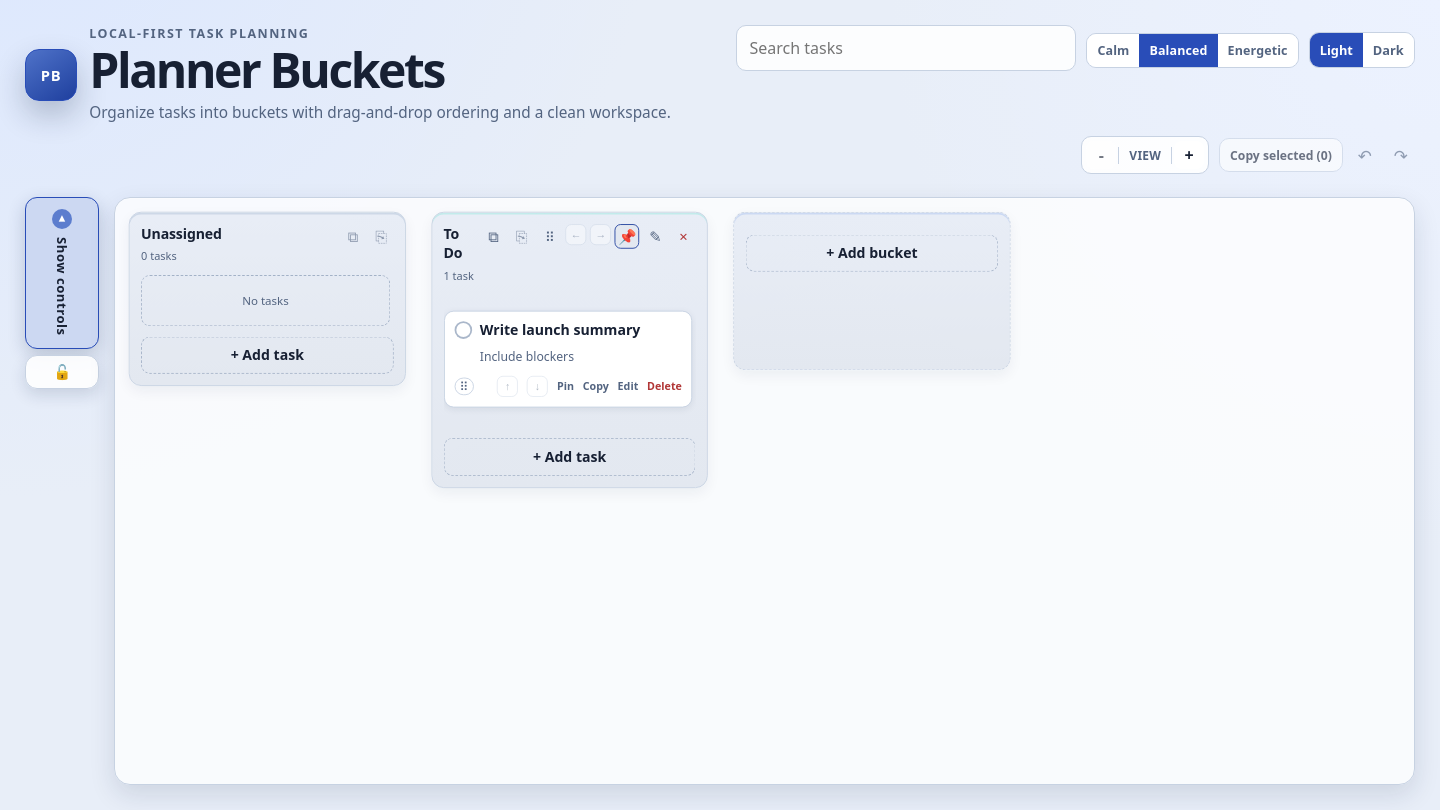
Test case: App integration › supports undo and redo keyboard shortcuts for planner actions
Step 1. Click the button with aria-label "Open planner controls" → [62, 273], box 25,197 -> 99,349
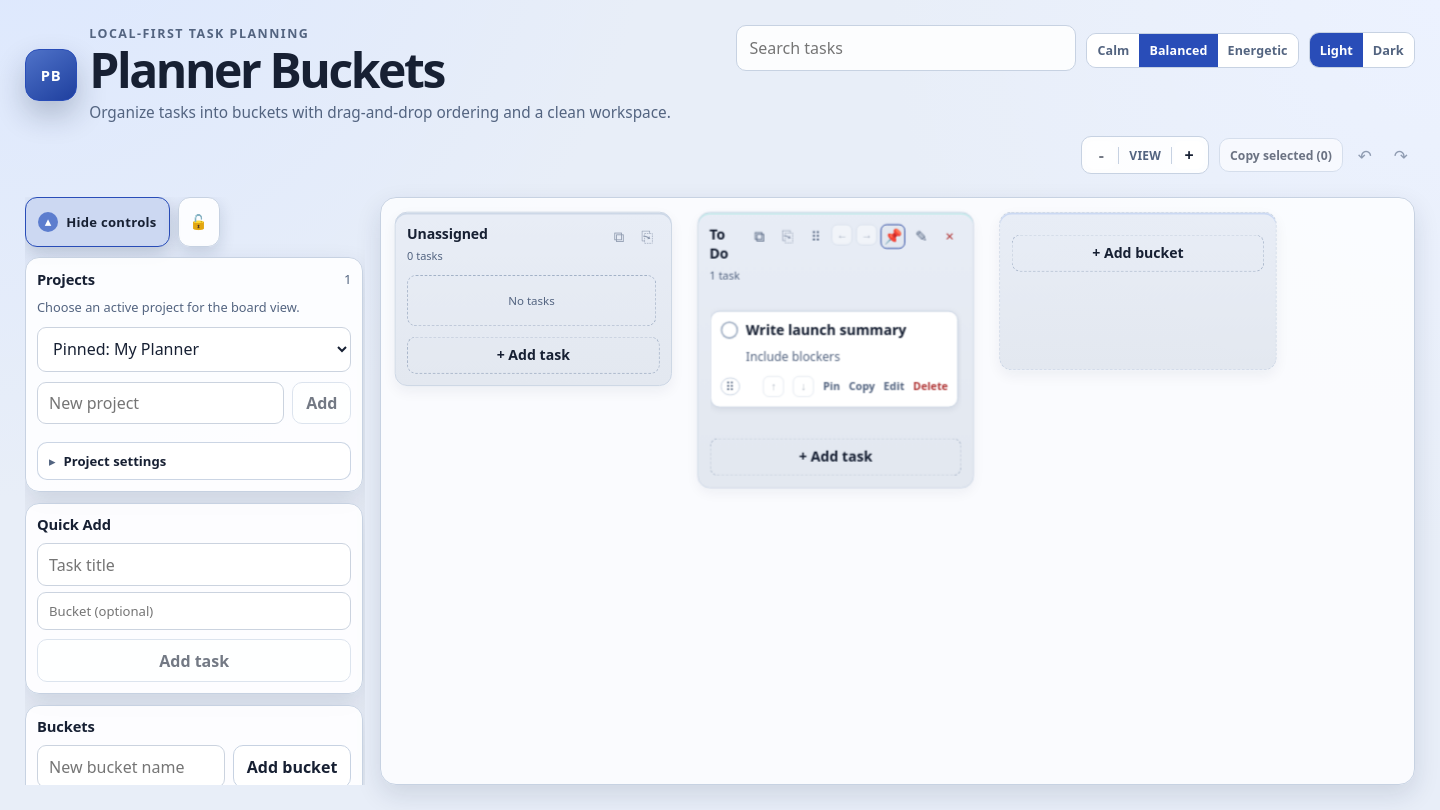
Step 2. Type "Undo target task" into the field named "Quick add task title" → [194, 565], box 37,544 -> 351,586
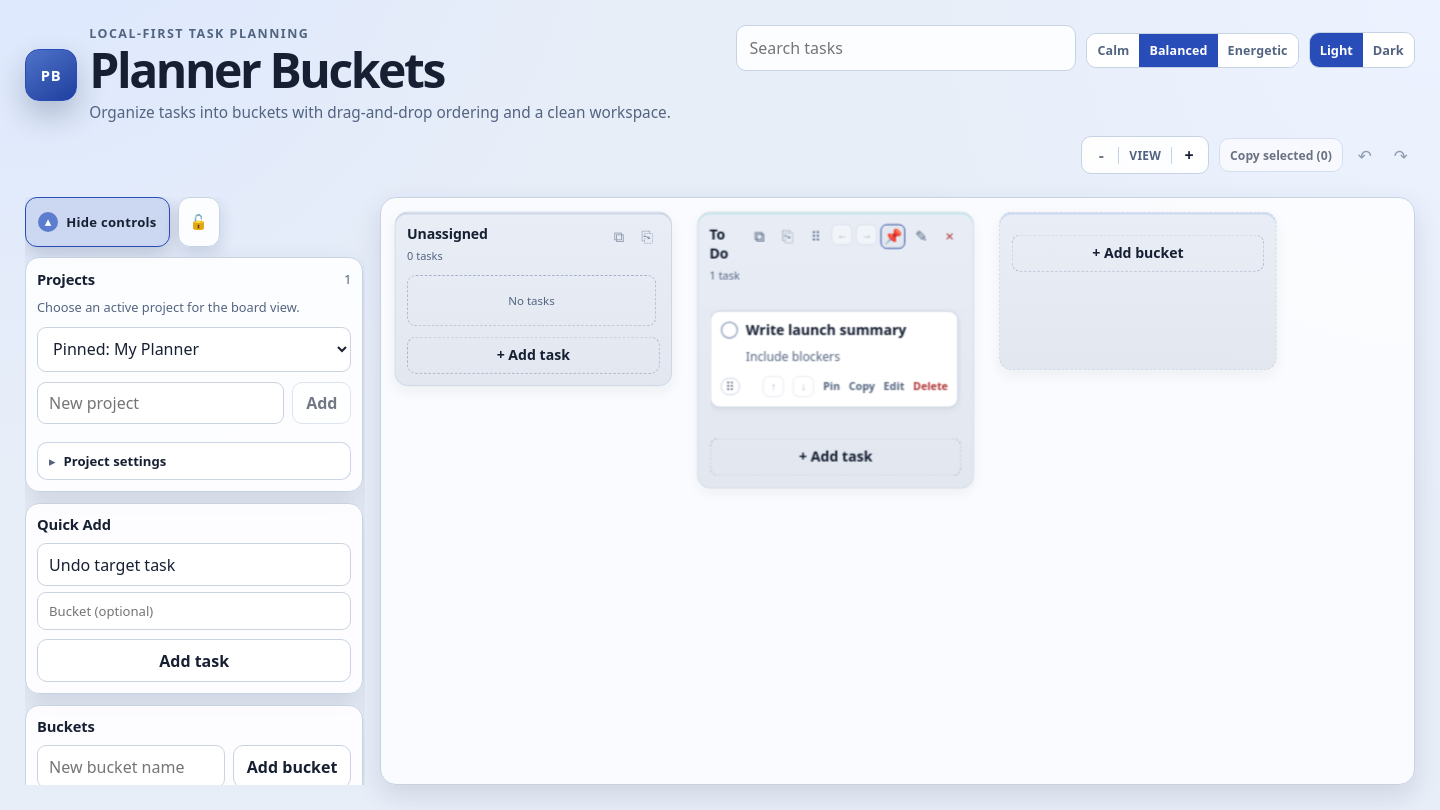
Step 3. Press Enter in the field named "Quick add task title", box 37,544 -> 351,586
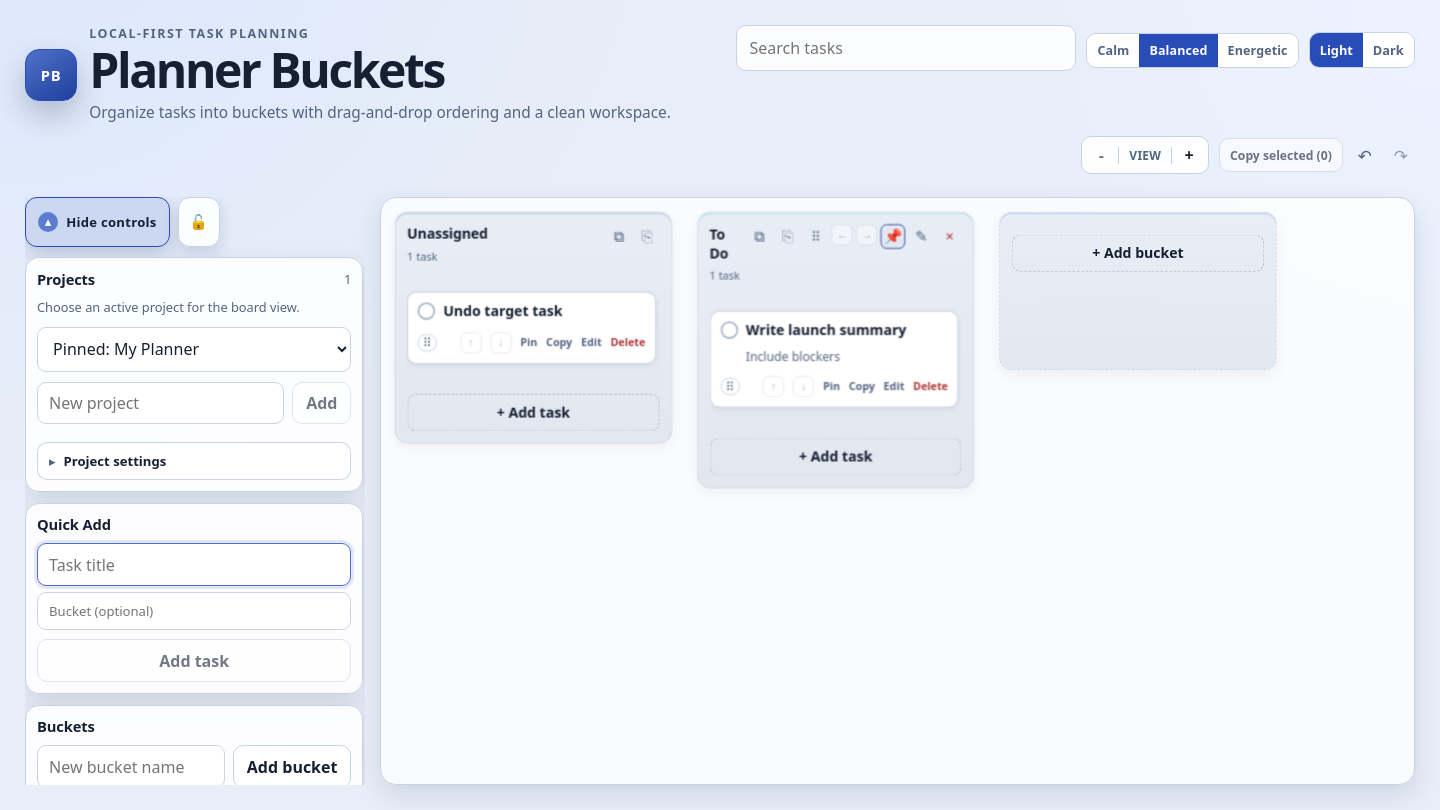
Check: the button "Undo target task" is shown, box 443,303 -> 646,322
Step 4. Press z
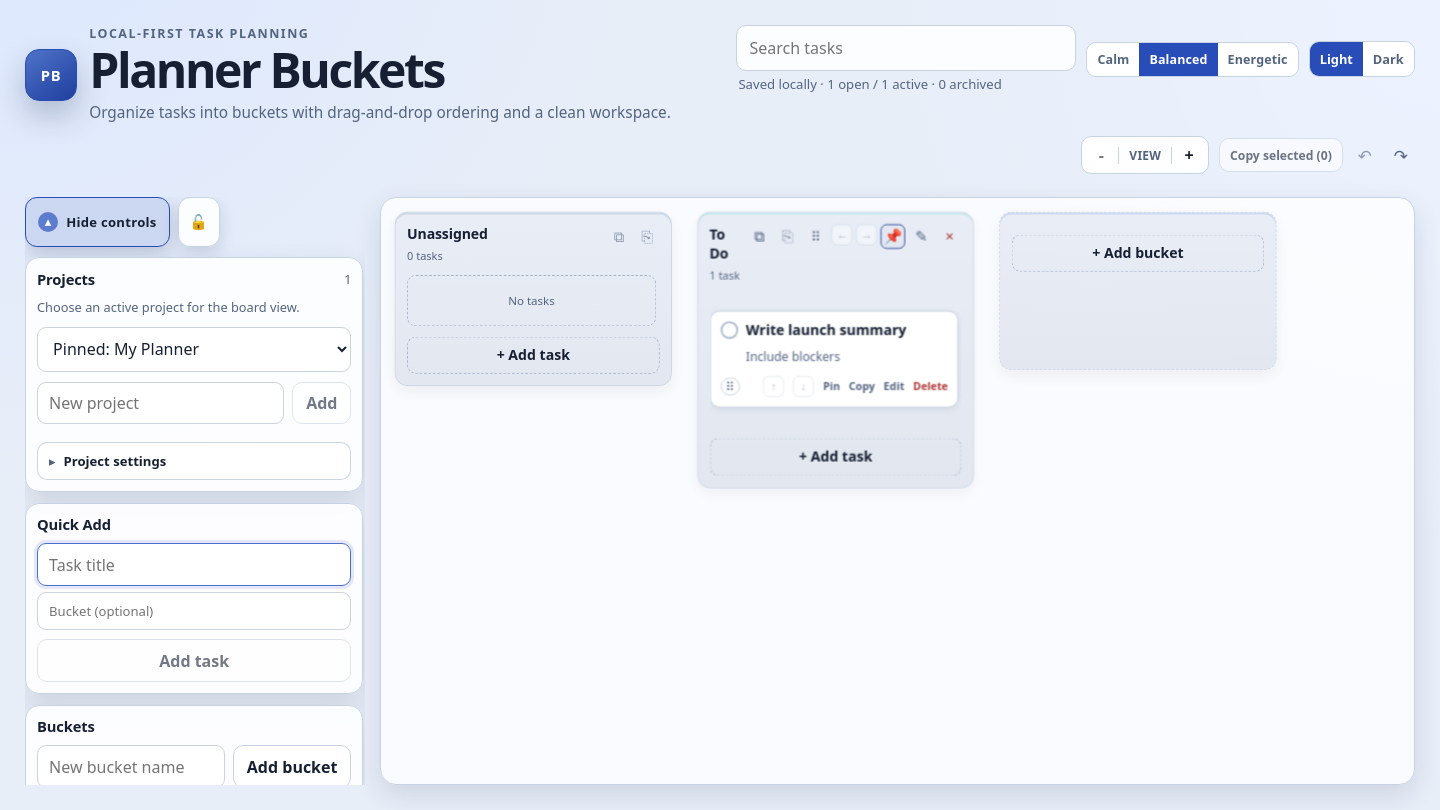
Check: the button "Undo target task" is gone
Step 5. Press y
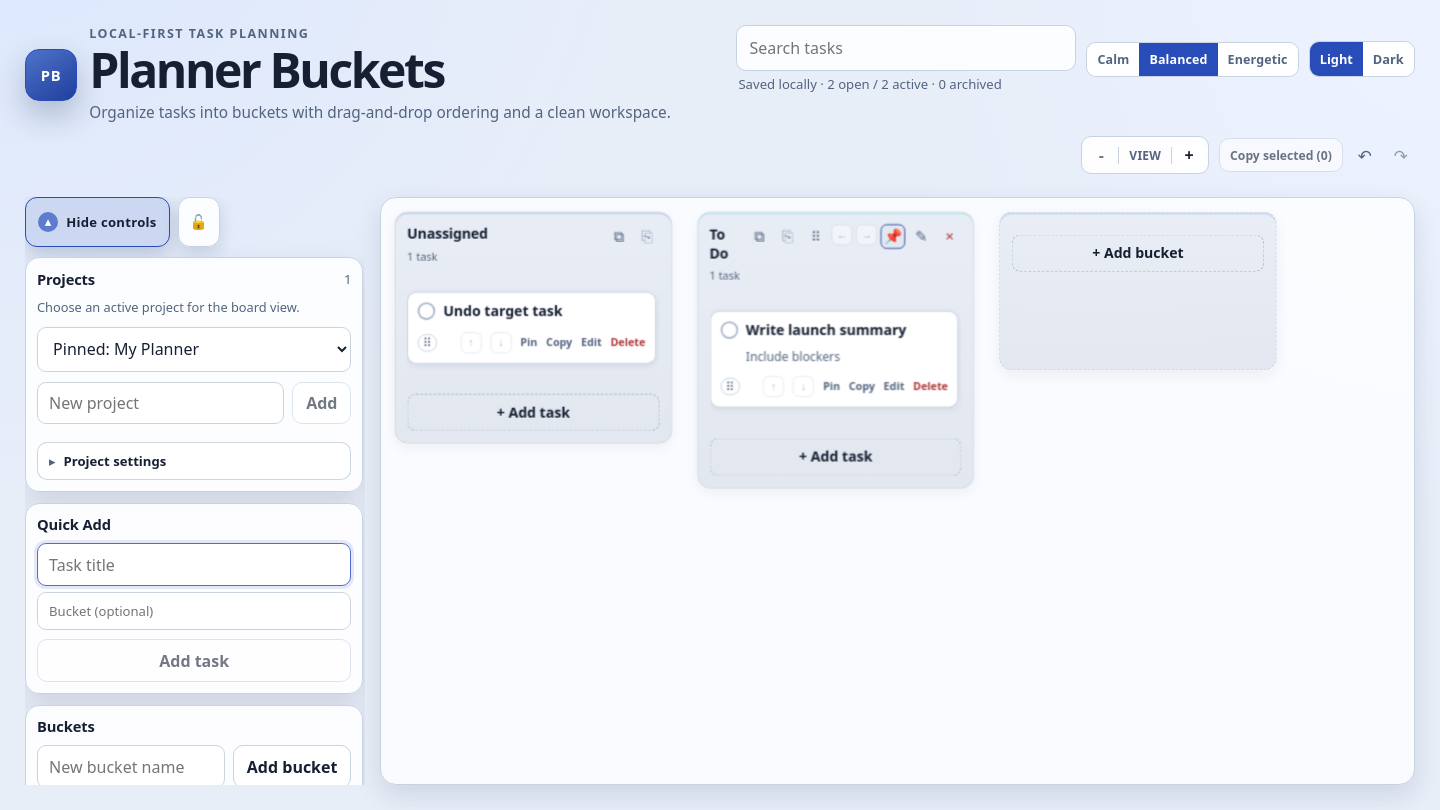
Check: the button "Undo target task" is shown, box 443,303 -> 646,322
